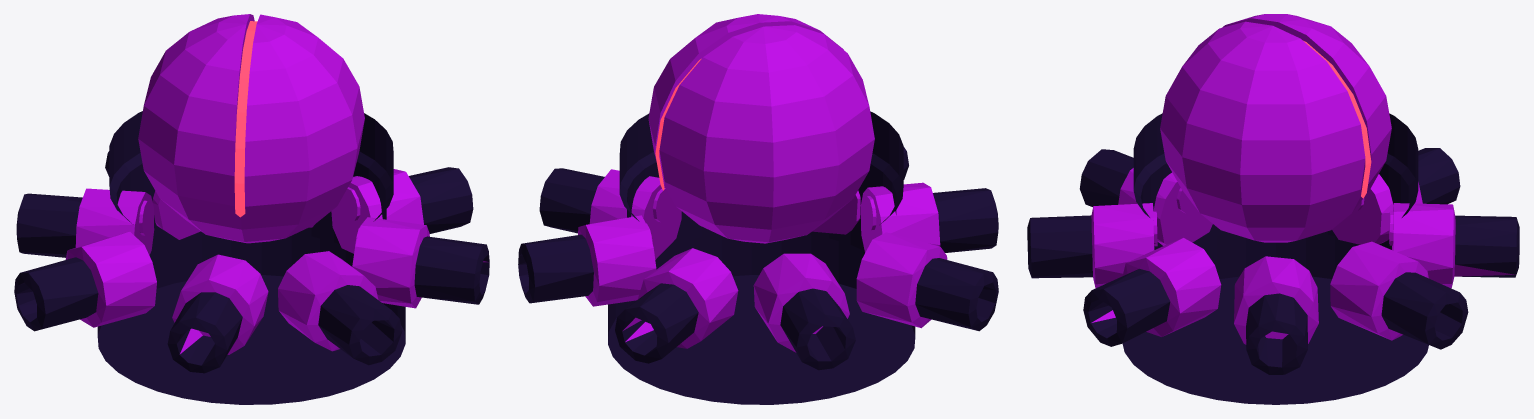
File: EnemyHavoc.fbx
3 views of the same model, side by side, from view 1: azimuth 30°, elevation 25°; view 2: azimuth 150°, elevation 25°; view 3: azimuth 270°, elevation 25° (orthographic).
Parts seen in each view (by area): view 1: Stationary Enemy; view 2: Stationary Enemy; view 3: Stationary Enemy.
Boxes of the visible parts, bbox=[...] form: Stationary Enemy: bbox=[14, 14, 489, 404]; Stationary Enemy: bbox=[518, 14, 998, 404]; Stationary Enemy: bbox=[1027, 14, 1519, 404].
Bounding box in the file's own units: 898 × 623 × 881.
